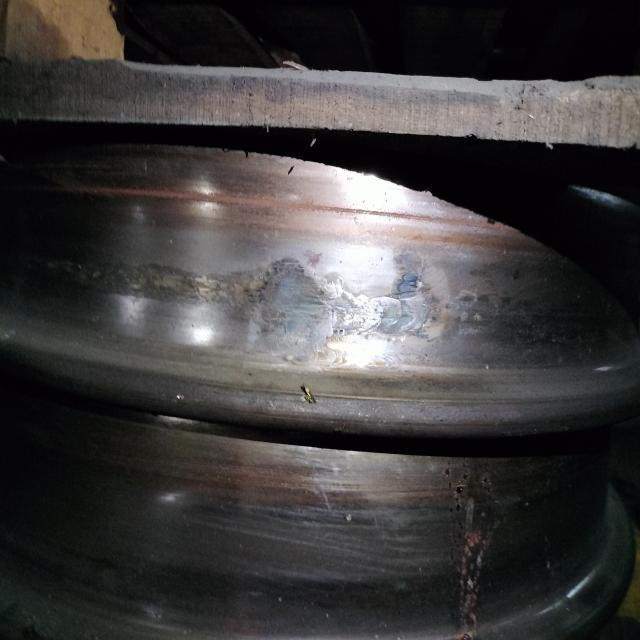flat: (70, 231, 578, 359)
